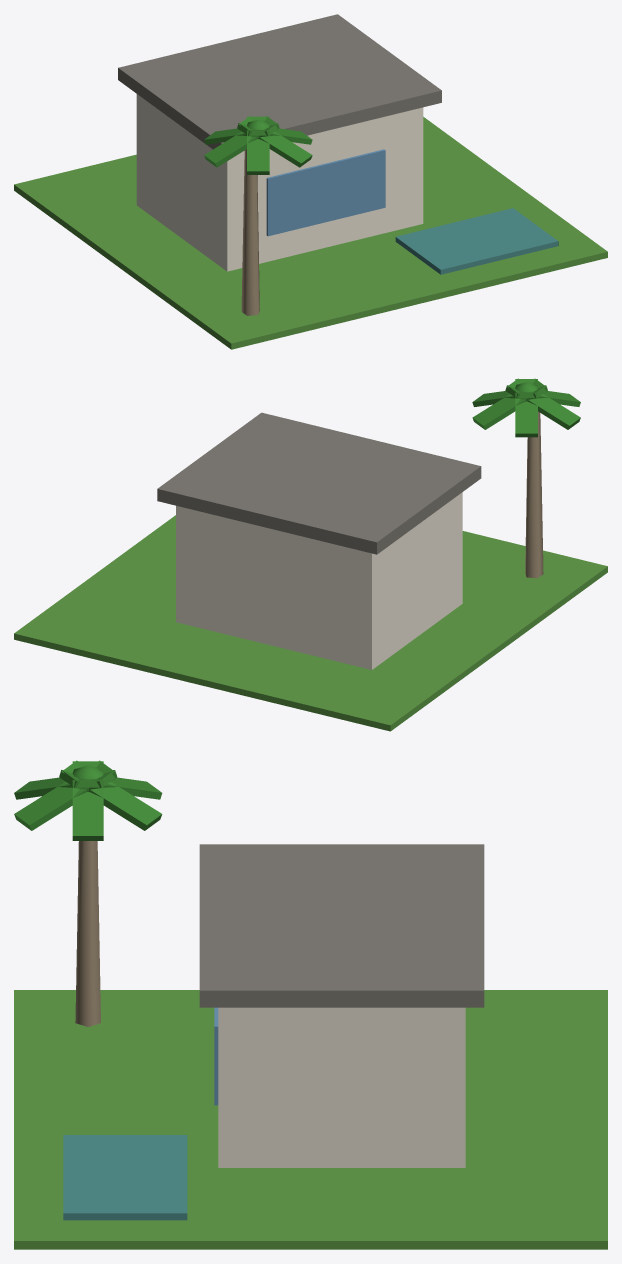
Rendered from zone_R_d1_e4.glb.
3 renders of one model, top to bottom at view 1: azimuth 30°, elevation 25°; view 2: azimuth 150°, elevation 25°; view 3: azimuth 270°, elevation 25°, orthographic. The views are drawn at different scales.
Visible parts, largest first — view 1: zone_R_d1_e4; view 2: zone_R_d1_e4; view 3: zone_R_d1_e4.
Part boxes in pixels (bbox=[...]): zone_R_d1_e4: bbox=[14, 14, 607, 349]; zone_R_d1_e4: bbox=[14, 378, 607, 731]; zone_R_d1_e4: bbox=[14, 760, 607, 1249].
Size of the model in its own units: 0.96 by 0.48 by 0.96.
